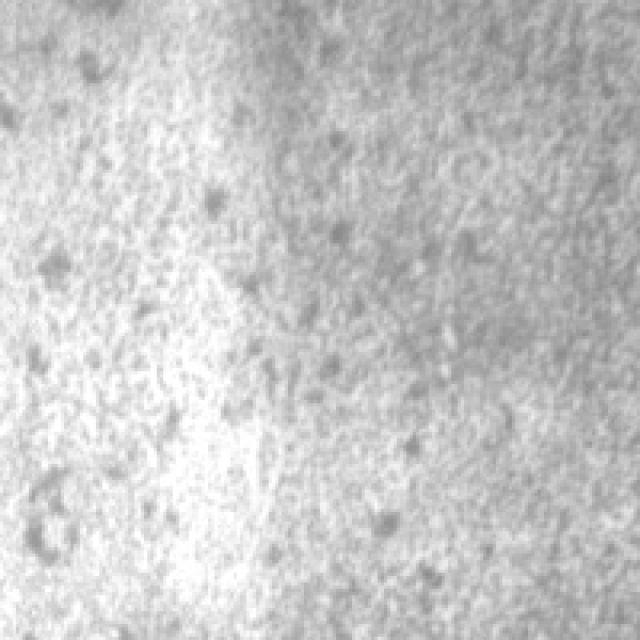pitted_surface: (192, 0, 637, 563), (0, 54, 282, 598)
